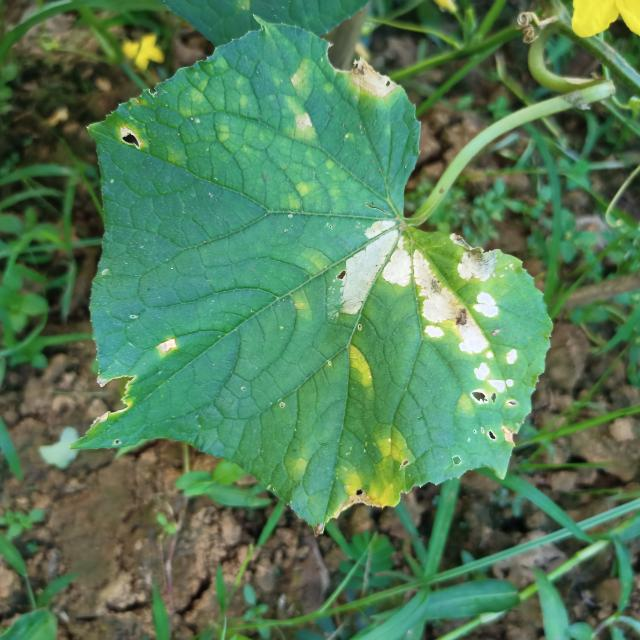disease_cucumber: (334, 217, 532, 401), (330, 422, 416, 518), (277, 54, 326, 146), (342, 342, 378, 389)
